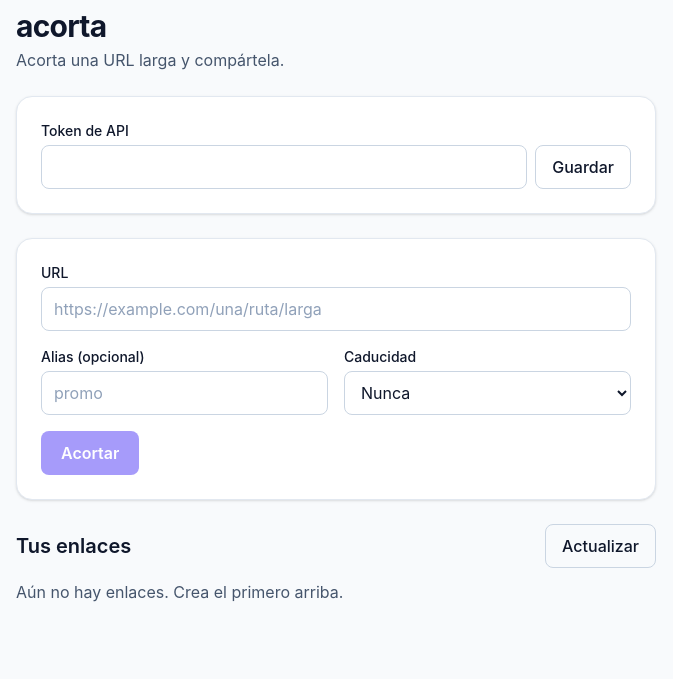
Scenario: formulario › WEB-06: al editar el alias desaparecen los errores
Expected: the label "URL" is shown, [41,264,68,281]
In the field labelled "URL": (336, 309) [41,287,631,331], type "ftp://x"
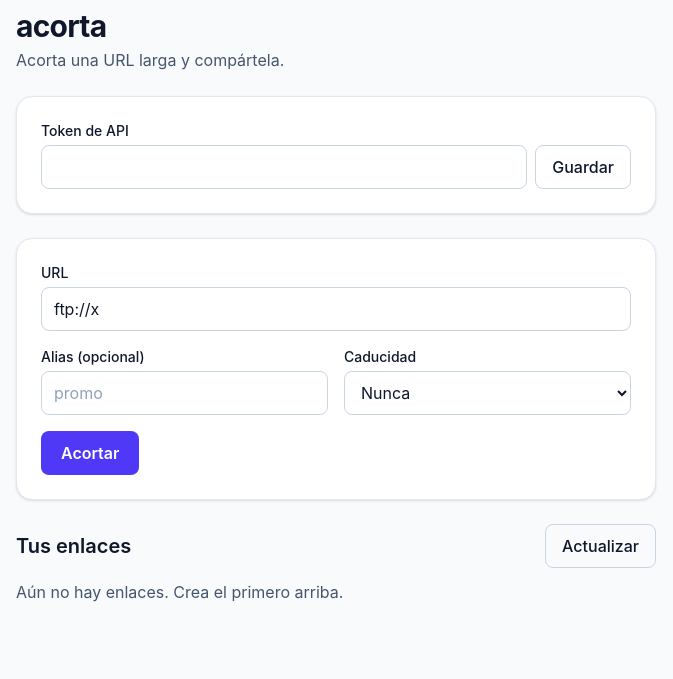
Click the submit button: (90, 453) [41,431,139,475]
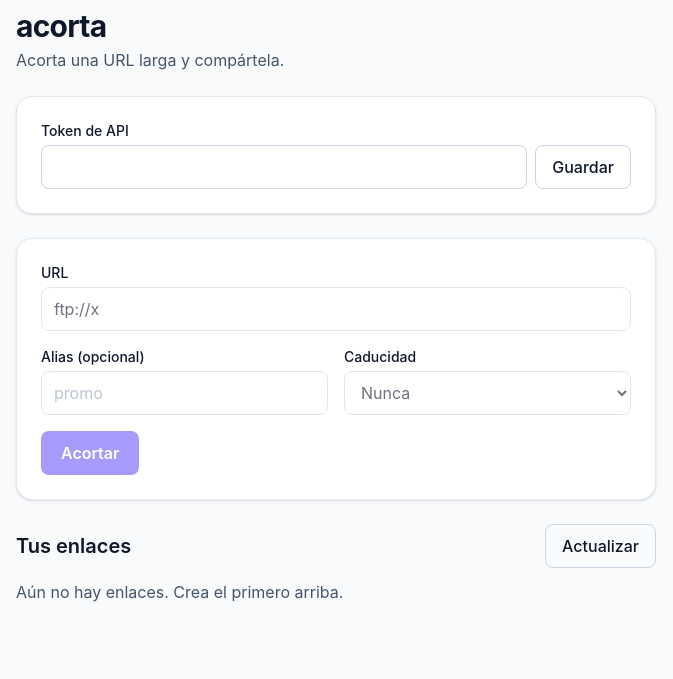
Submit the form, box [41,263,631,475]
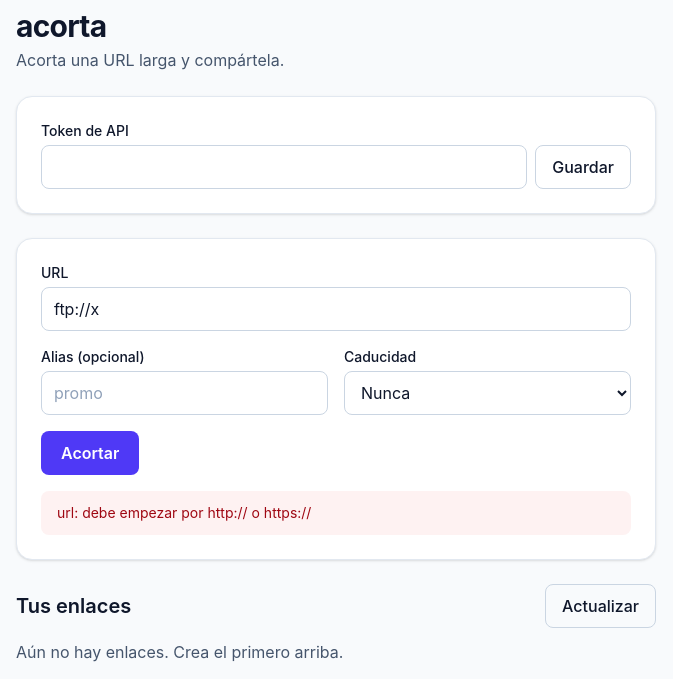
Expected: the label "Alias (opcional)" is shown, [41,348,145,365]
Now the text "url: debe empezar por http:// o https://" is shown, box [57,504,311,521]
In the field labelled "Alias (opcional)": (184, 393) [41,371,328,415], type "otro"
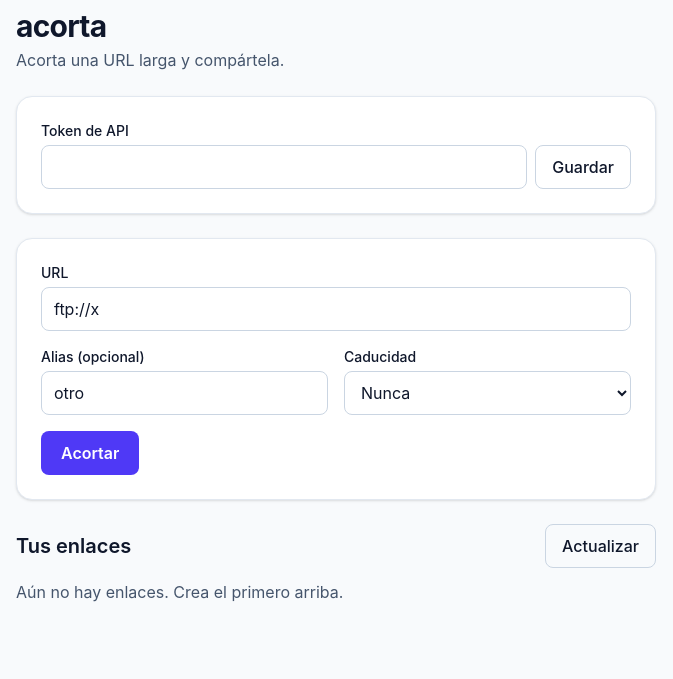
Now the text "url: debe empezar por http:// o https://" is gone
